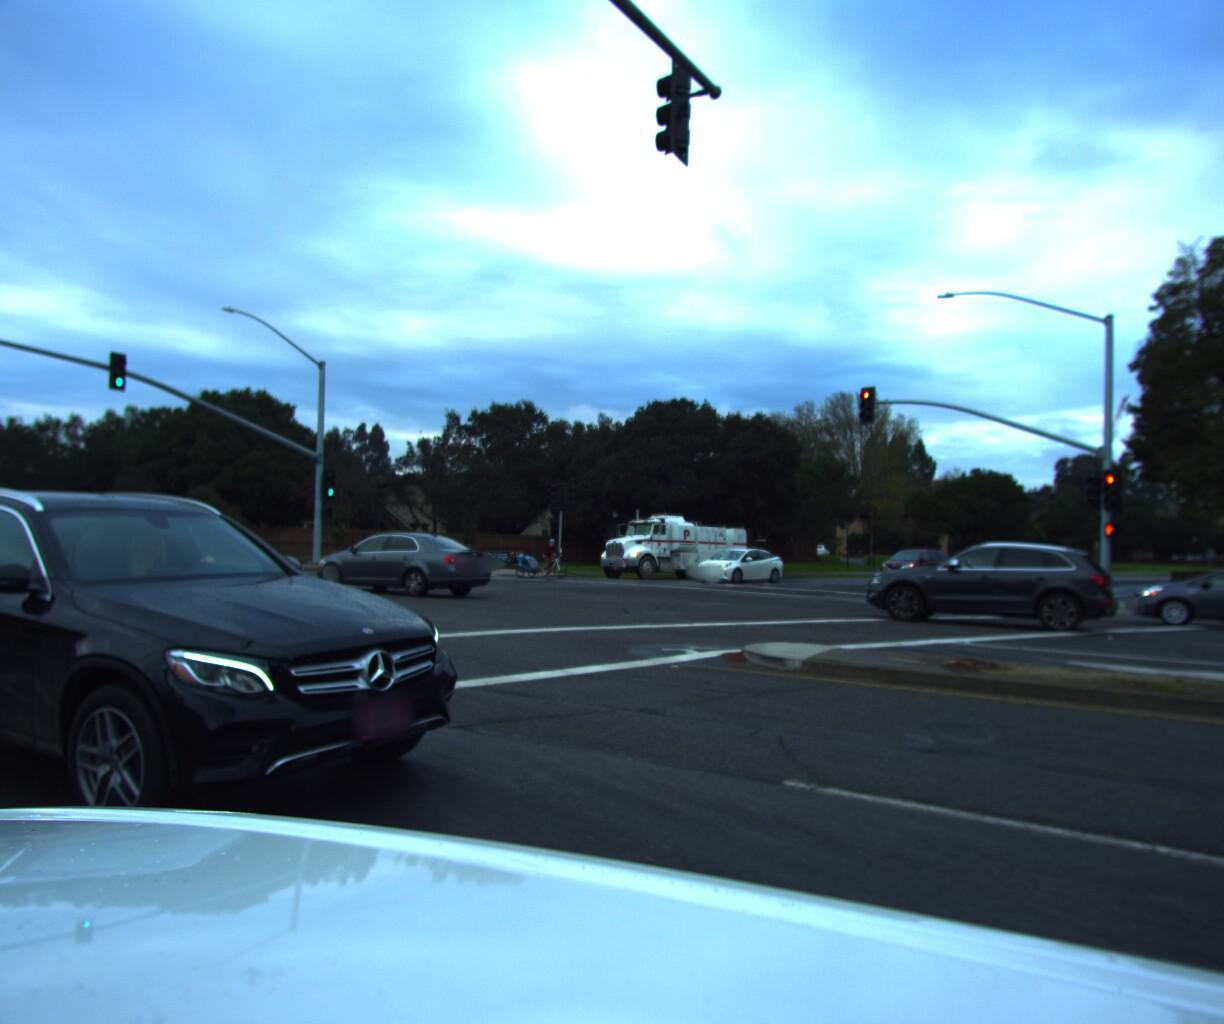bicycle: (528, 533, 576, 576)
car: (0, 471, 508, 887), (864, 524, 1143, 633), (298, 519, 513, 596), (1123, 545, 1224, 633), (681, 538, 786, 578), (869, 537, 957, 576), (805, 537, 831, 552)
other_vehicle: (504, 541, 540, 569)
truck: (582, 498, 773, 581)
